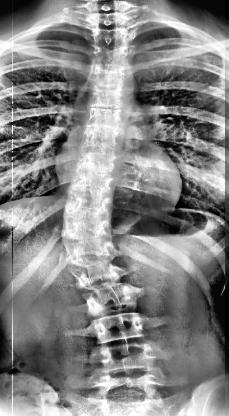Vertebrae: (90, 310, 146, 346), (100, 342, 160, 372), (84, 284, 134, 318), (73, 263, 127, 289), (64, 214, 118, 237), (70, 172, 121, 196), (77, 134, 127, 158), (82, 108, 128, 134), (64, 241, 114, 263), (66, 192, 116, 214), (86, 88, 134, 110), (74, 152, 120, 174), (94, 48, 134, 70), (92, 66, 130, 89), (94, 28, 130, 50)
